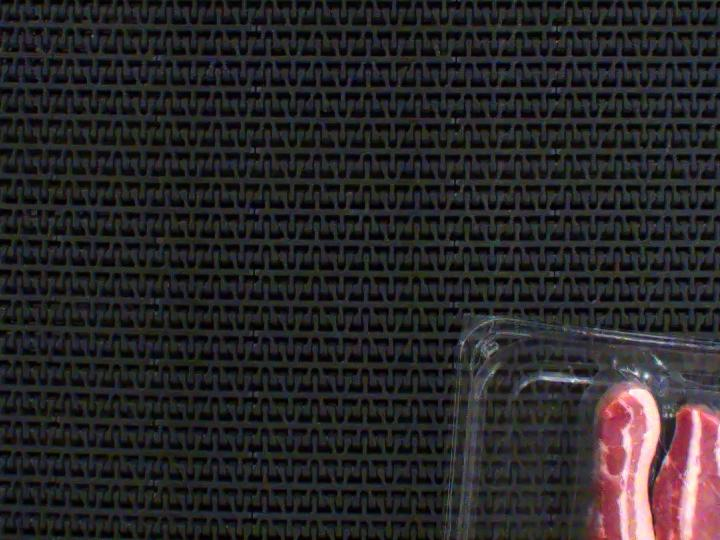unsealed: (560, 328, 720, 540)
